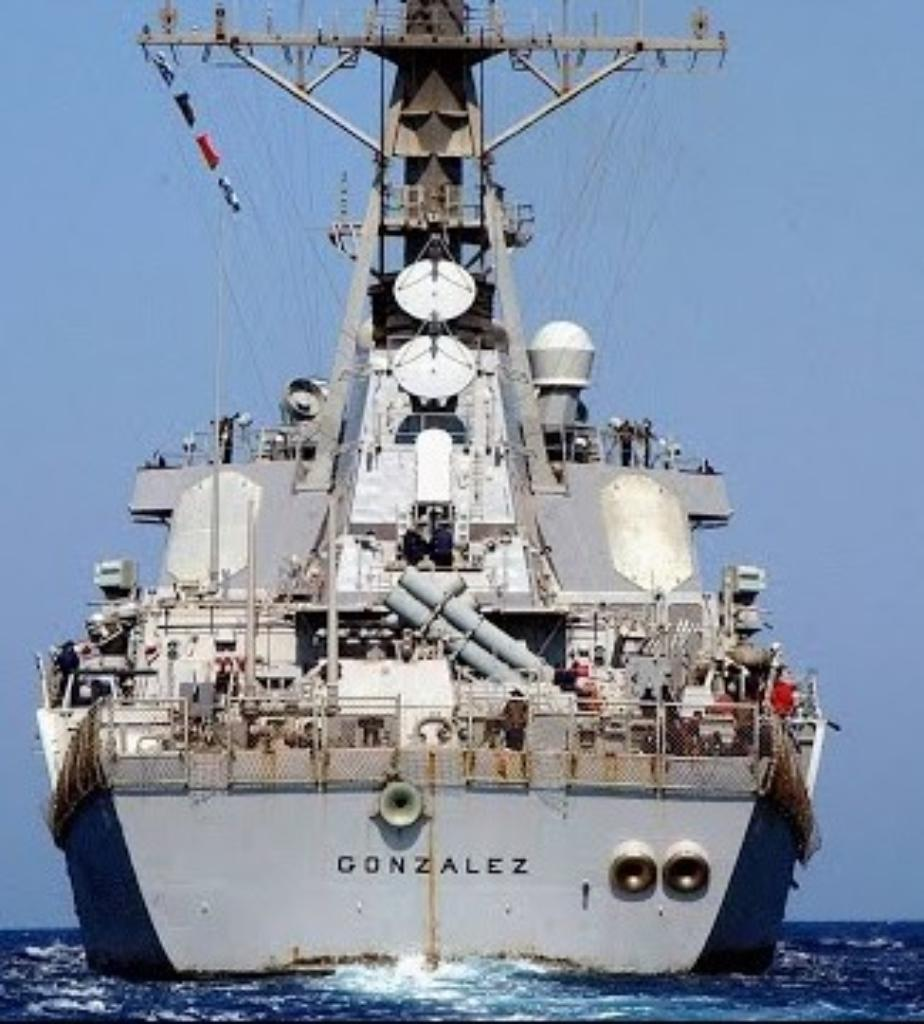Warship: (43, 0, 842, 990)
